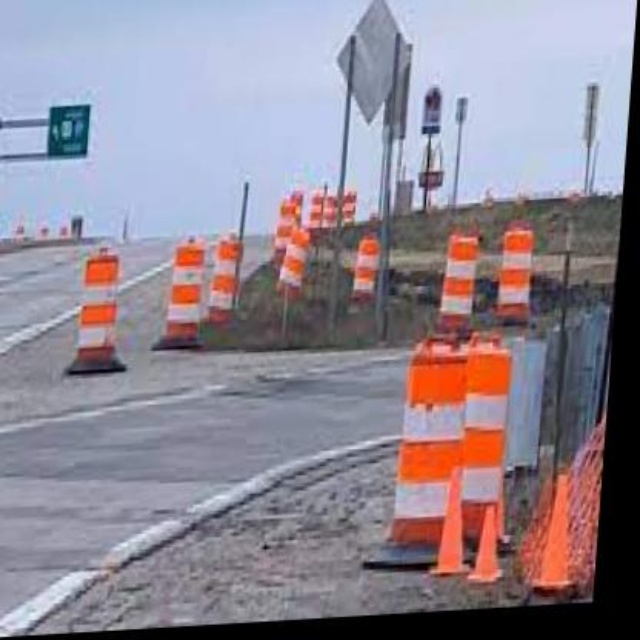obstacle: (392, 311, 490, 559), (77, 245, 131, 376), (167, 237, 217, 353)
